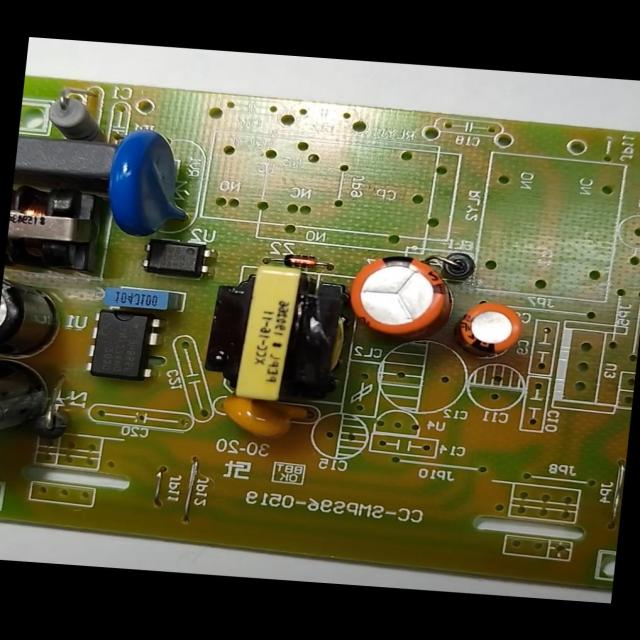Cap1: (344, 252, 456, 341)
Cap2: (457, 299, 522, 356)
Cap3: (0, 271, 70, 363)
Cap4: (0, 360, 54, 455)
MOSFET: (82, 308, 162, 383)
Mov: (101, 125, 202, 242)
Resistor: (43, 94, 106, 141)
Transformer: (200, 263, 344, 406), (4, 181, 110, 277)
